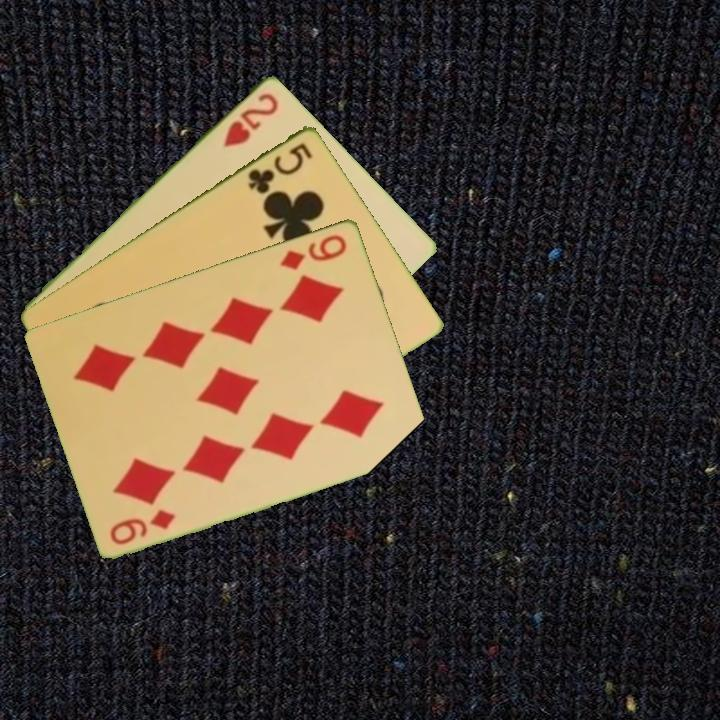2h: (219, 88, 282, 150)
5c: (244, 138, 316, 197)
9d: (106, 505, 179, 548), (276, 230, 350, 272)
